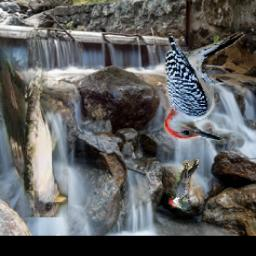Cuckoo: (0, 26, 69, 218)
Woodpecker: (156, 23, 251, 145), (169, 159, 199, 210)
